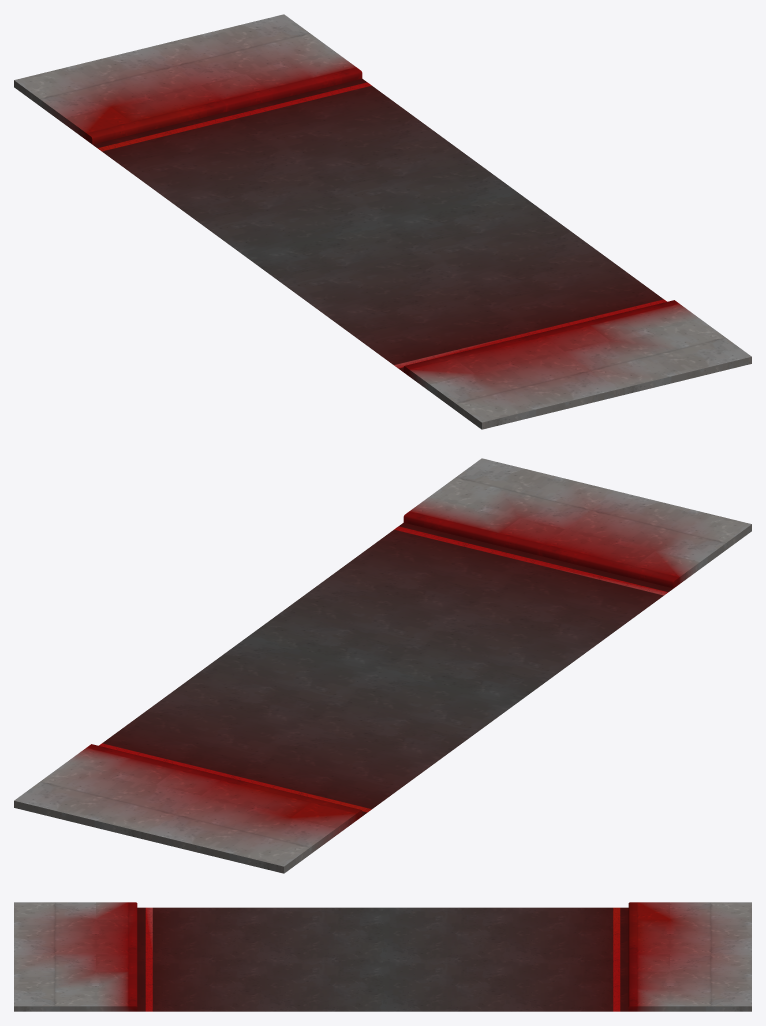
Rendered from street-tiny.glb.
3 views of the same model, one above another, from view 1: azimuth 30°, elevation 25°; view 2: azimuth 150°, elevation 25°; view 3: azimuth 270°, elevation 25° (orthographic). The views are drawn at different scales.
Parts seen in each view (by area): view 1: Street_4Lane; view 2: Street_4Lane; view 3: Street_4Lane.
Part boxes in pixels (box(x1,y1,x2,y2)): Street_4Lane: box(14, 14, 751, 429); Street_4Lane: box(14, 458, 751, 873); Street_4Lane: box(14, 902, 751, 1011).
Bounding box in the file's own units: 6 × 0.15 × 18.
Materials: 3 (3 with a texture image).
